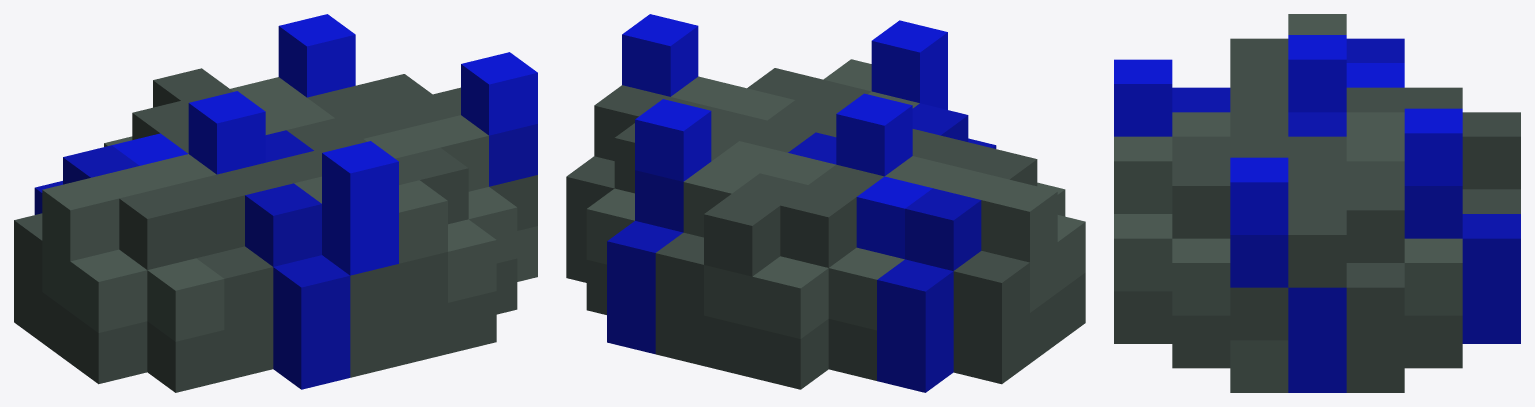
File: SapphireDeposit_S.obj
3 renders of one model, left to right at view 1: azimuth 30°, elevation 25°; view 2: azimuth 150°, elevation 25°; view 3: azimuth 270°, elevation 25°, orthographic. The views are drawn at different scales.
Visible parts, largest first — view 1: SapphireDeposit_S; view 2: SapphireDeposit_S; view 3: SapphireDeposit_S.
Boxes of the visible parts, box(x1,y1,x2,y2) form: SapphireDeposit_S: box(14, 14, 537, 392); SapphireDeposit_S: box(566, 14, 1085, 392); SapphireDeposit_S: box(1114, 14, 1520, 392).
Bounding box in the file's own units: 0.9 × 0.4 × 0.7.
Materials: 1 (1 with a texture image).
